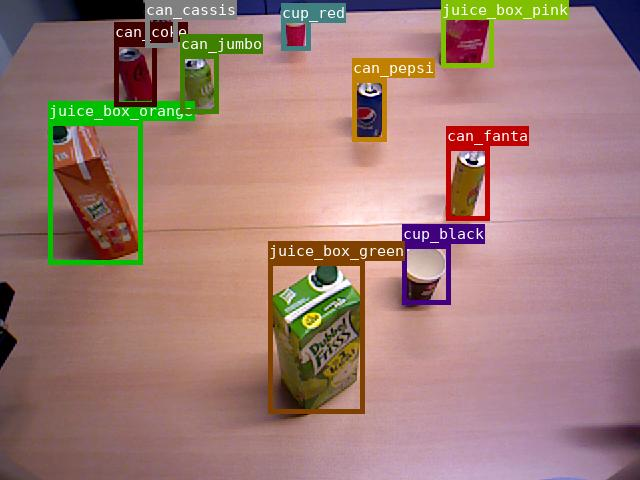can_cassis: (145, 0, 177, 47)
can_coke: (114, 42, 156, 106)
can_fanta: (446, 146, 489, 220)
can_jumbo: (180, 54, 218, 113)
can_pepsi: (352, 78, 386, 141)
cup_black: (402, 244, 450, 304)
cup_red: (281, 3, 310, 50)
juice_box_green: (268, 261, 364, 413)
juice_box_orange: (48, 121, 142, 264)
juice_box_pink: (441, 0, 493, 67)
